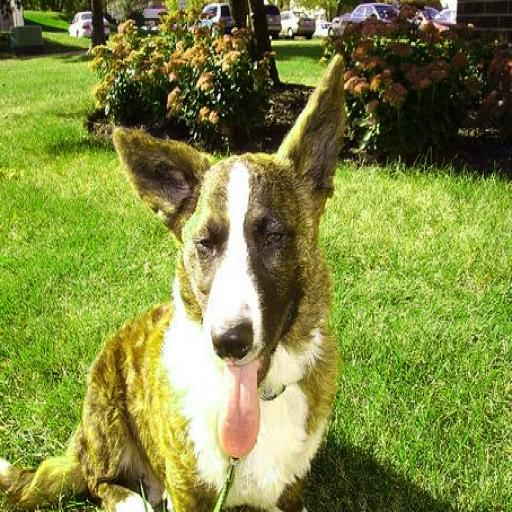dog_face: (118, 56, 342, 398)
